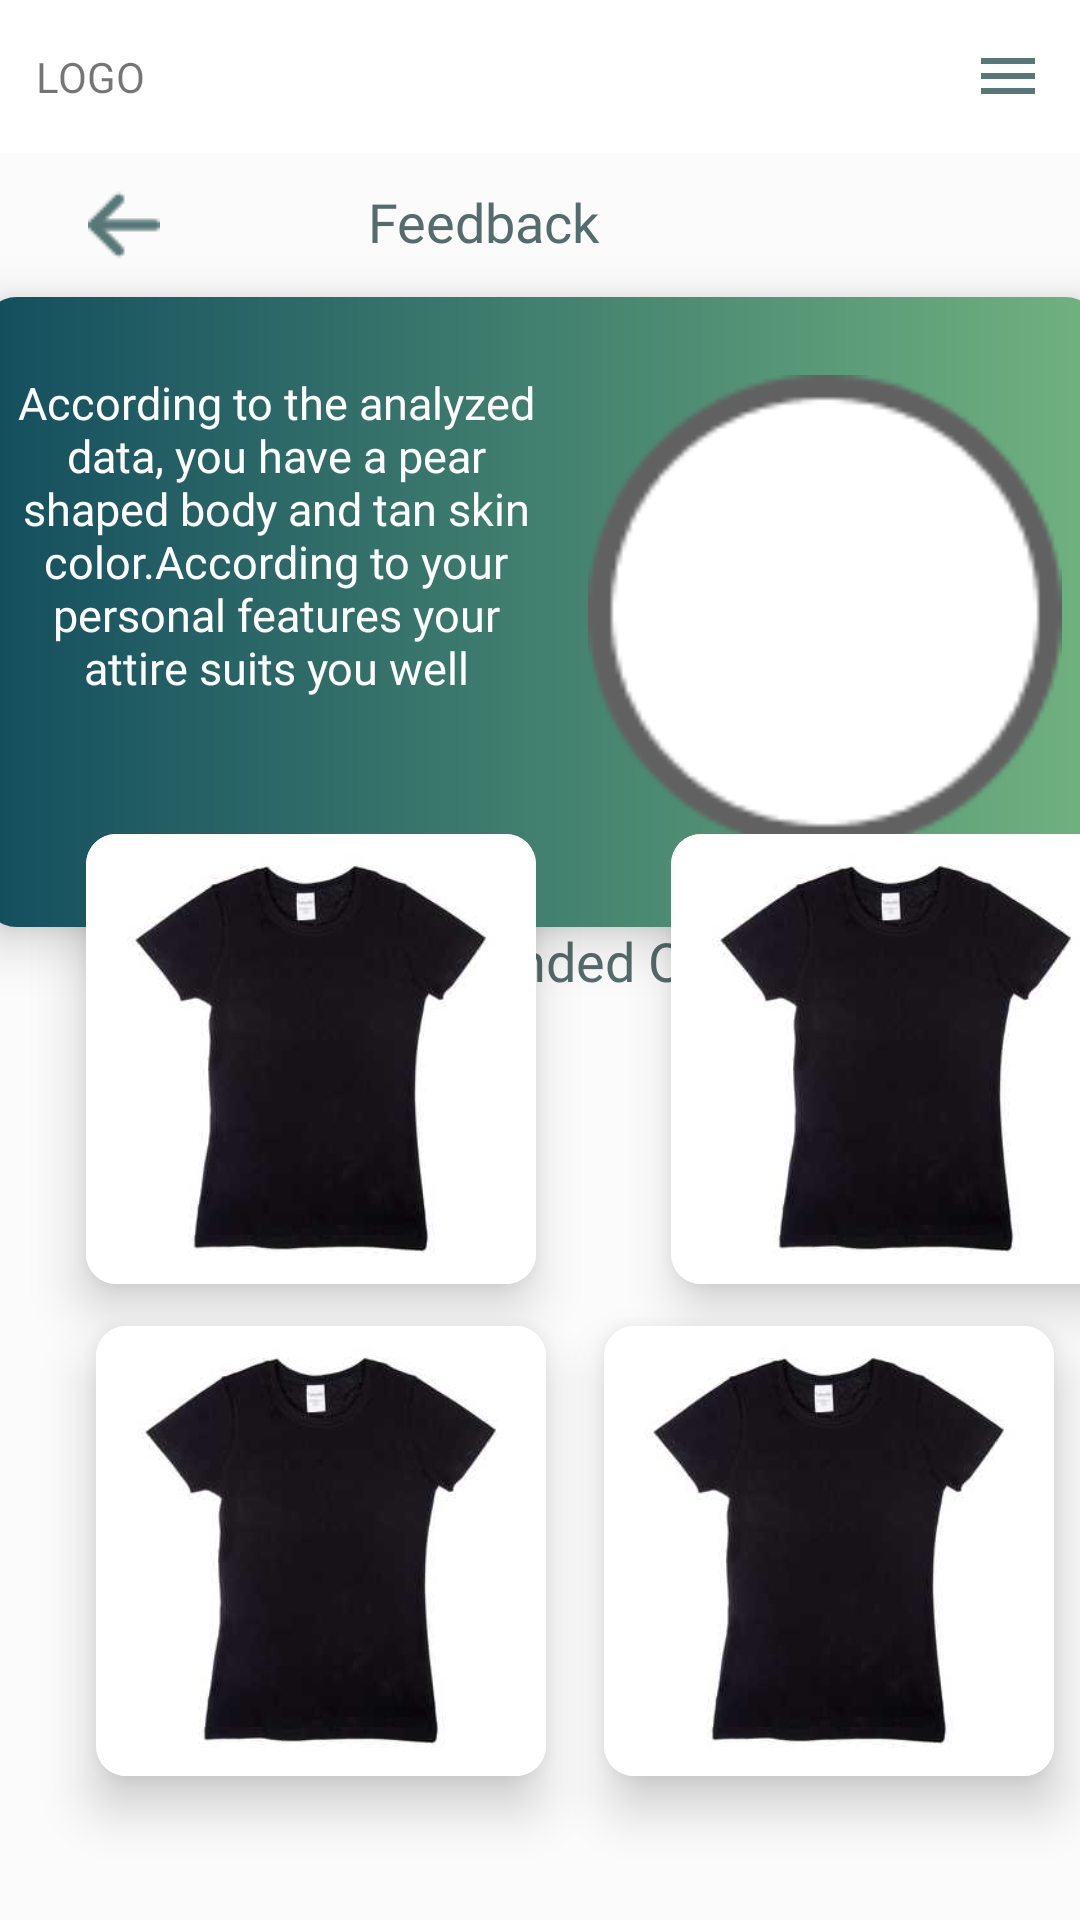

Icons on this 1080×1920 Android screen, each with the point to tap as point (x, y):
arrow back: point (124, 225)
menu: point (1008, 76)
